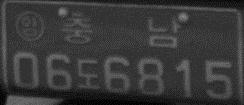0: (12, 51, 41, 90)
1: (171, 59, 199, 100)
5: (204, 59, 234, 101)
6: (103, 55, 131, 95), (45, 53, 73, 92)
8: (136, 56, 166, 97)
도: (76, 58, 102, 91)
영: (15, 9, 45, 42)
충남_D: (61, 11, 180, 49)
